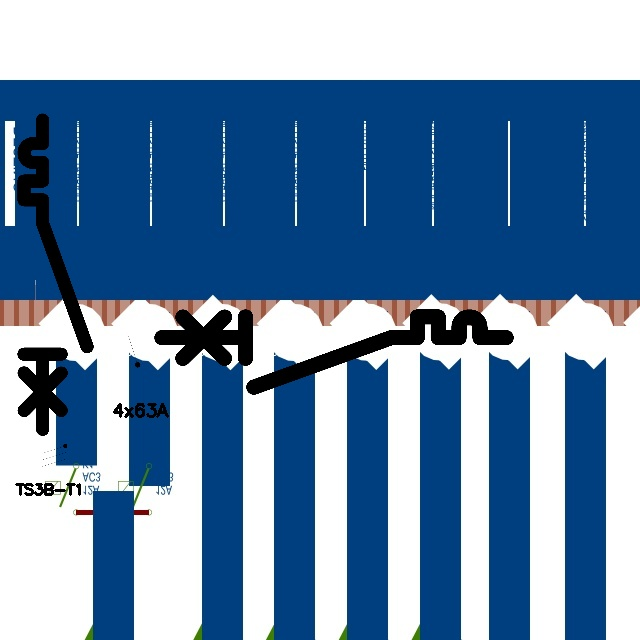interruptor_termomagnetico: (152, 308, 514, 396), (16, 112, 95, 437)
